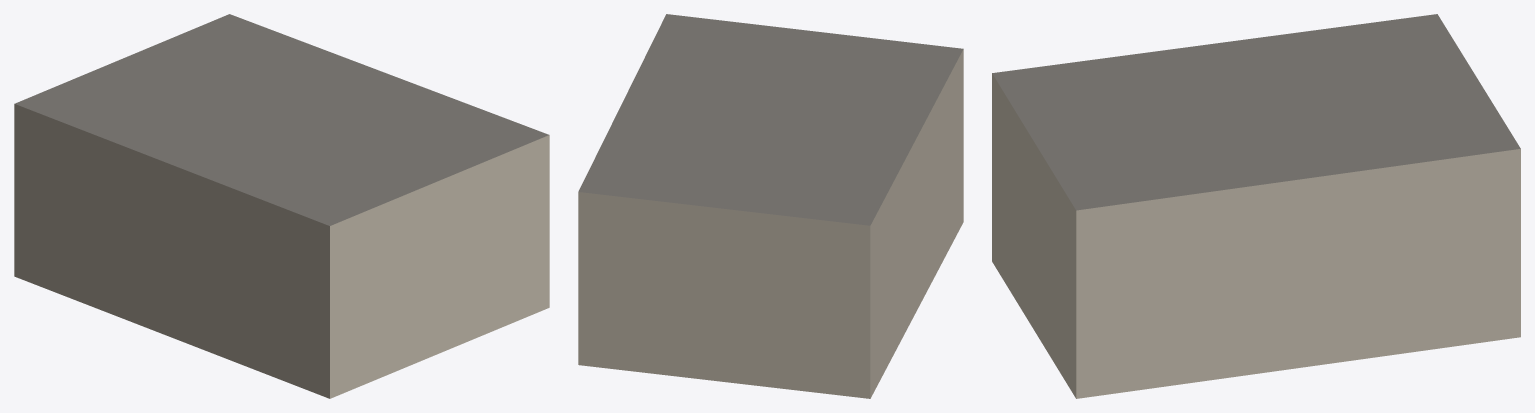
3 renders of one model, left to right at view 1: azimuth 30°, elevation 25°; view 2: azimuth 150°, elevation 25°; view 3: azimuth 270°, elevation 25°, orthographic. The views are drawn at different scales.
Visible parts, largest first — view 1: HP-w1196661461; view 2: HP-w1196661461; view 3: HP-w1196661461.
Part boxes in pixels (bbox=[...]): HP-w1196661461: bbox=[14, 14, 549, 398]; HP-w1196661461: bbox=[578, 14, 963, 398]; HP-w1196661461: bbox=[992, 14, 1520, 398].
Bounding box in the file's own units: 40.26 × 18 × 45.78.
